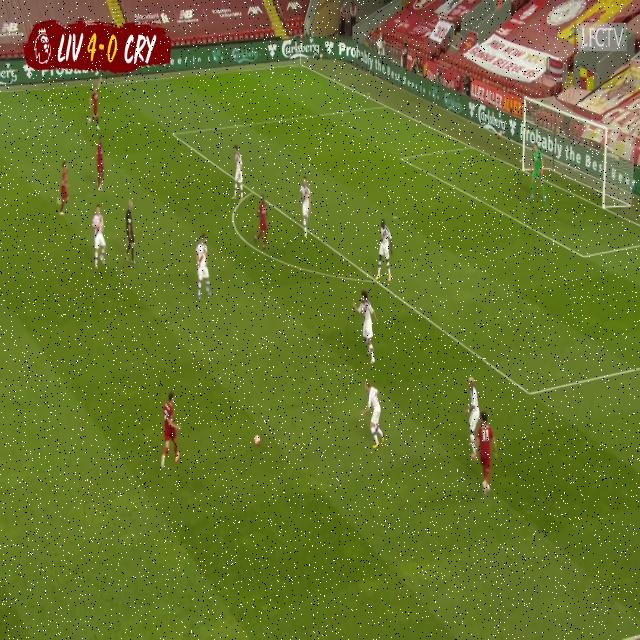Ball: (255, 436, 262, 446)
GoalKeeper: (528, 142, 548, 206)
TEAM 1: (357, 290, 379, 366), (465, 372, 481, 466), (362, 384, 385, 449), (194, 232, 213, 300), (376, 218, 392, 285), (92, 204, 108, 269), (57, 161, 71, 219), (231, 144, 245, 201), (299, 176, 312, 236)
TEAM 2: (476, 408, 498, 496), (160, 391, 183, 468), (90, 76, 106, 132), (253, 198, 269, 250), (96, 139, 108, 190)
